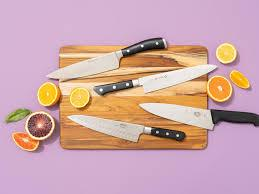Knife: (45, 36, 167, 81), (93, 63, 218, 96), (66, 114, 185, 143), (138, 102, 258, 130)
